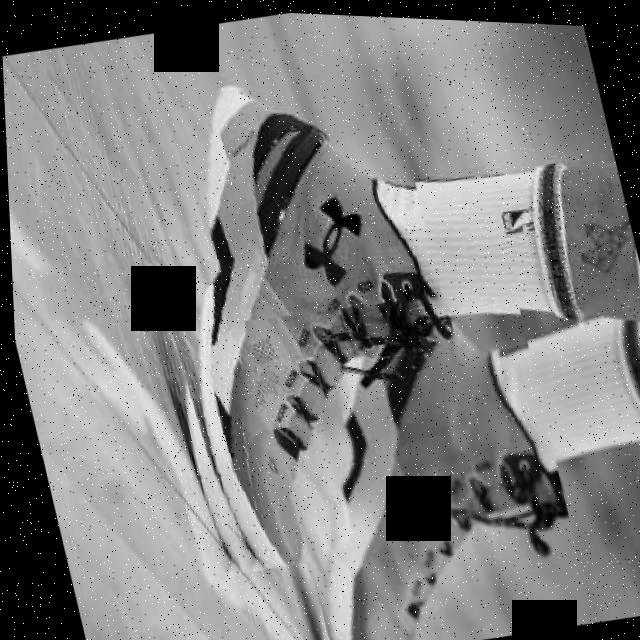shoe: (104, 49, 496, 584), (239, 266, 589, 640)
